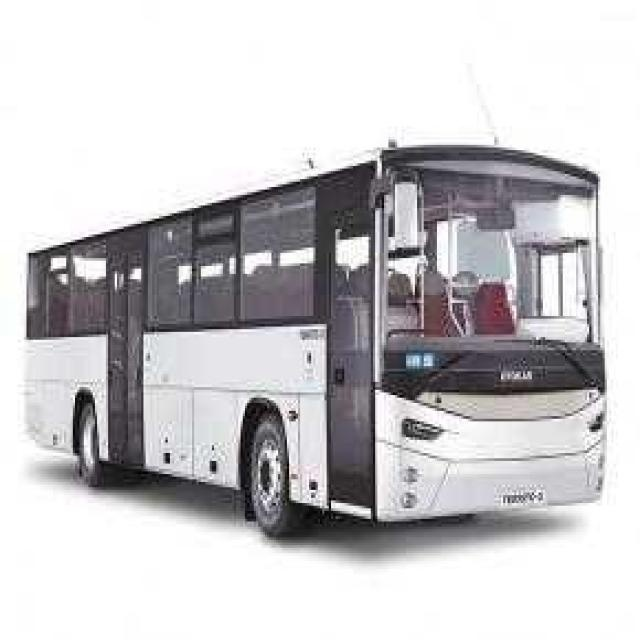Bus: (23, 125, 621, 548)
